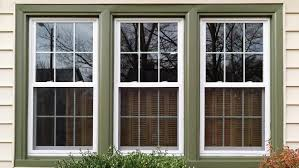window: (19, 9, 279, 156)
